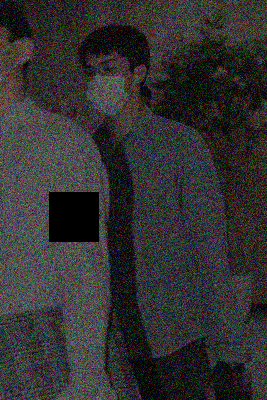with_mask: (87, 56, 135, 119)
